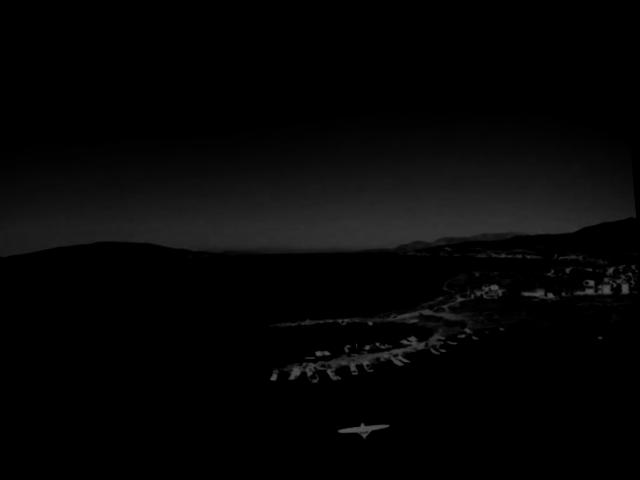hedef: (331, 403, 398, 454)
